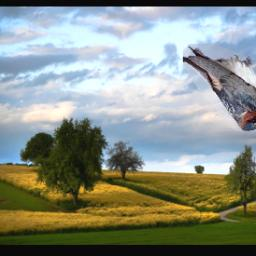Swallow: (182, 44, 256, 131)
